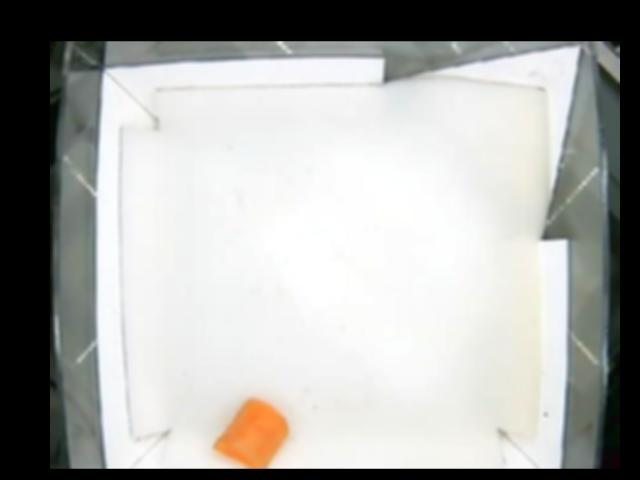Carrot: (210, 397, 290, 468)
